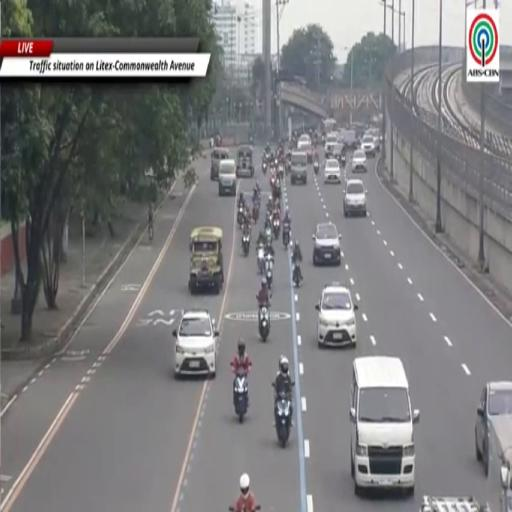car: (475, 381, 511, 474), (173, 310, 218, 377), (316, 283, 357, 346), (312, 222, 341, 265), (343, 179, 367, 217), (219, 159, 236, 196), (291, 152, 307, 184), (324, 158, 342, 183), (340, 131, 359, 150), (361, 134, 376, 158), (366, 128, 380, 152), (352, 150, 367, 172), (325, 133, 338, 157), (301, 143, 313, 164), (297, 134, 311, 150)
jeepney: (189, 227, 224, 293), (211, 148, 230, 180), (237, 146, 254, 177)
motorcycle: (274, 393, 291, 447), (233, 368, 248, 423), (259, 307, 269, 342), (265, 254, 273, 289), (282, 222, 290, 248), (257, 246, 264, 275), (237, 205, 245, 229), (242, 233, 250, 257), (292, 262, 300, 286), (273, 218, 280, 239), (265, 228, 272, 245), (252, 203, 258, 222), (244, 505, 260, 511), (270, 176, 276, 189), (286, 160, 291, 175), (279, 165, 284, 179), (262, 162, 267, 174), (314, 162, 319, 174), (341, 154, 345, 168)
truck: (487, 414, 511, 511), (420, 496, 494, 511)
